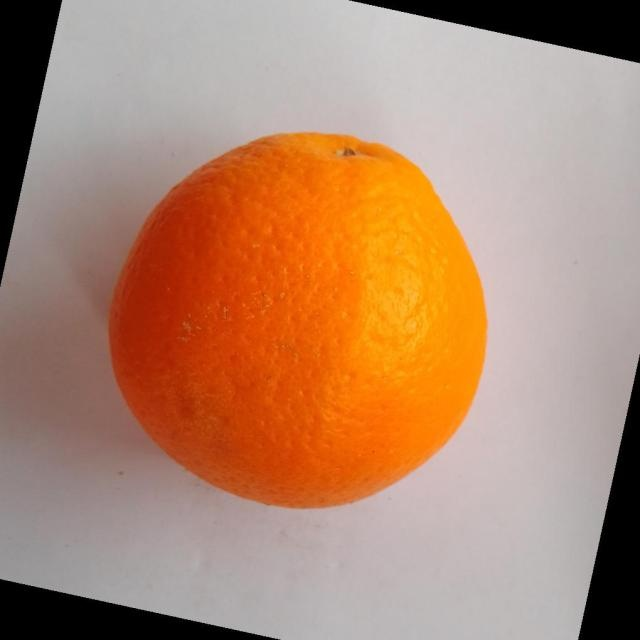agrume: (107, 130, 488, 509)
